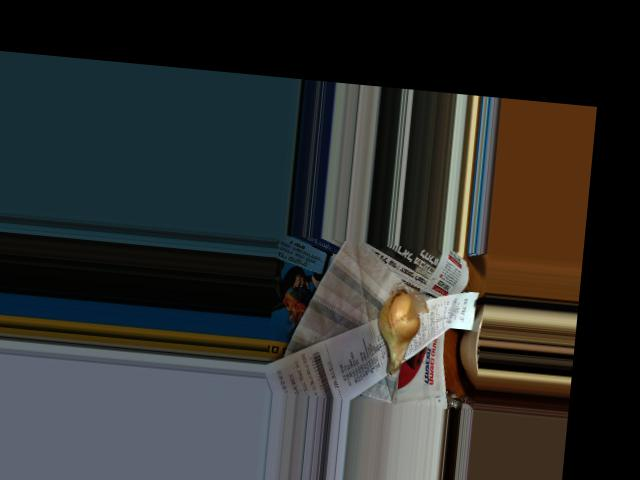onion: (372, 290, 419, 366)
